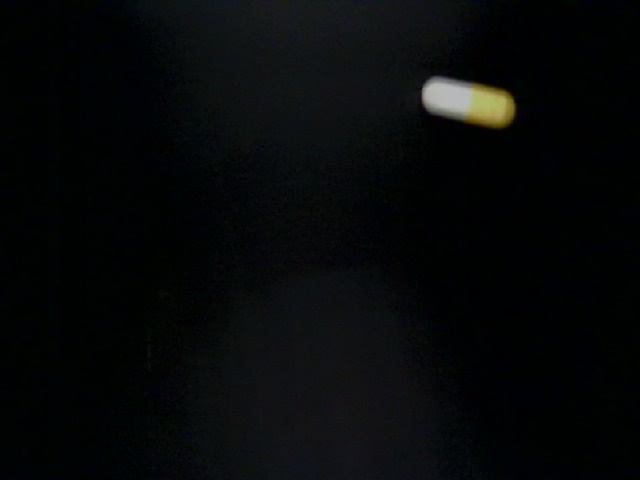YHLJ: (118, 320, 396, 425)
